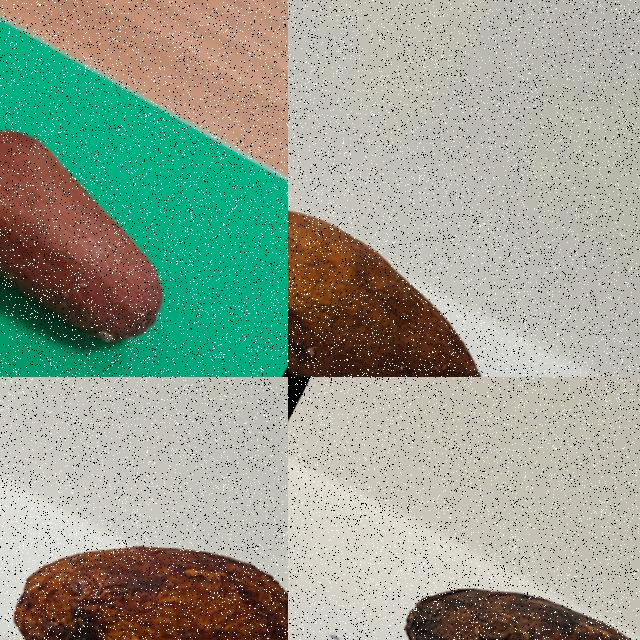Fine_cocoabeans: (0, 49, 287, 376), (0, 419, 287, 639), (288, 142, 556, 376), (311, 494, 639, 639)
